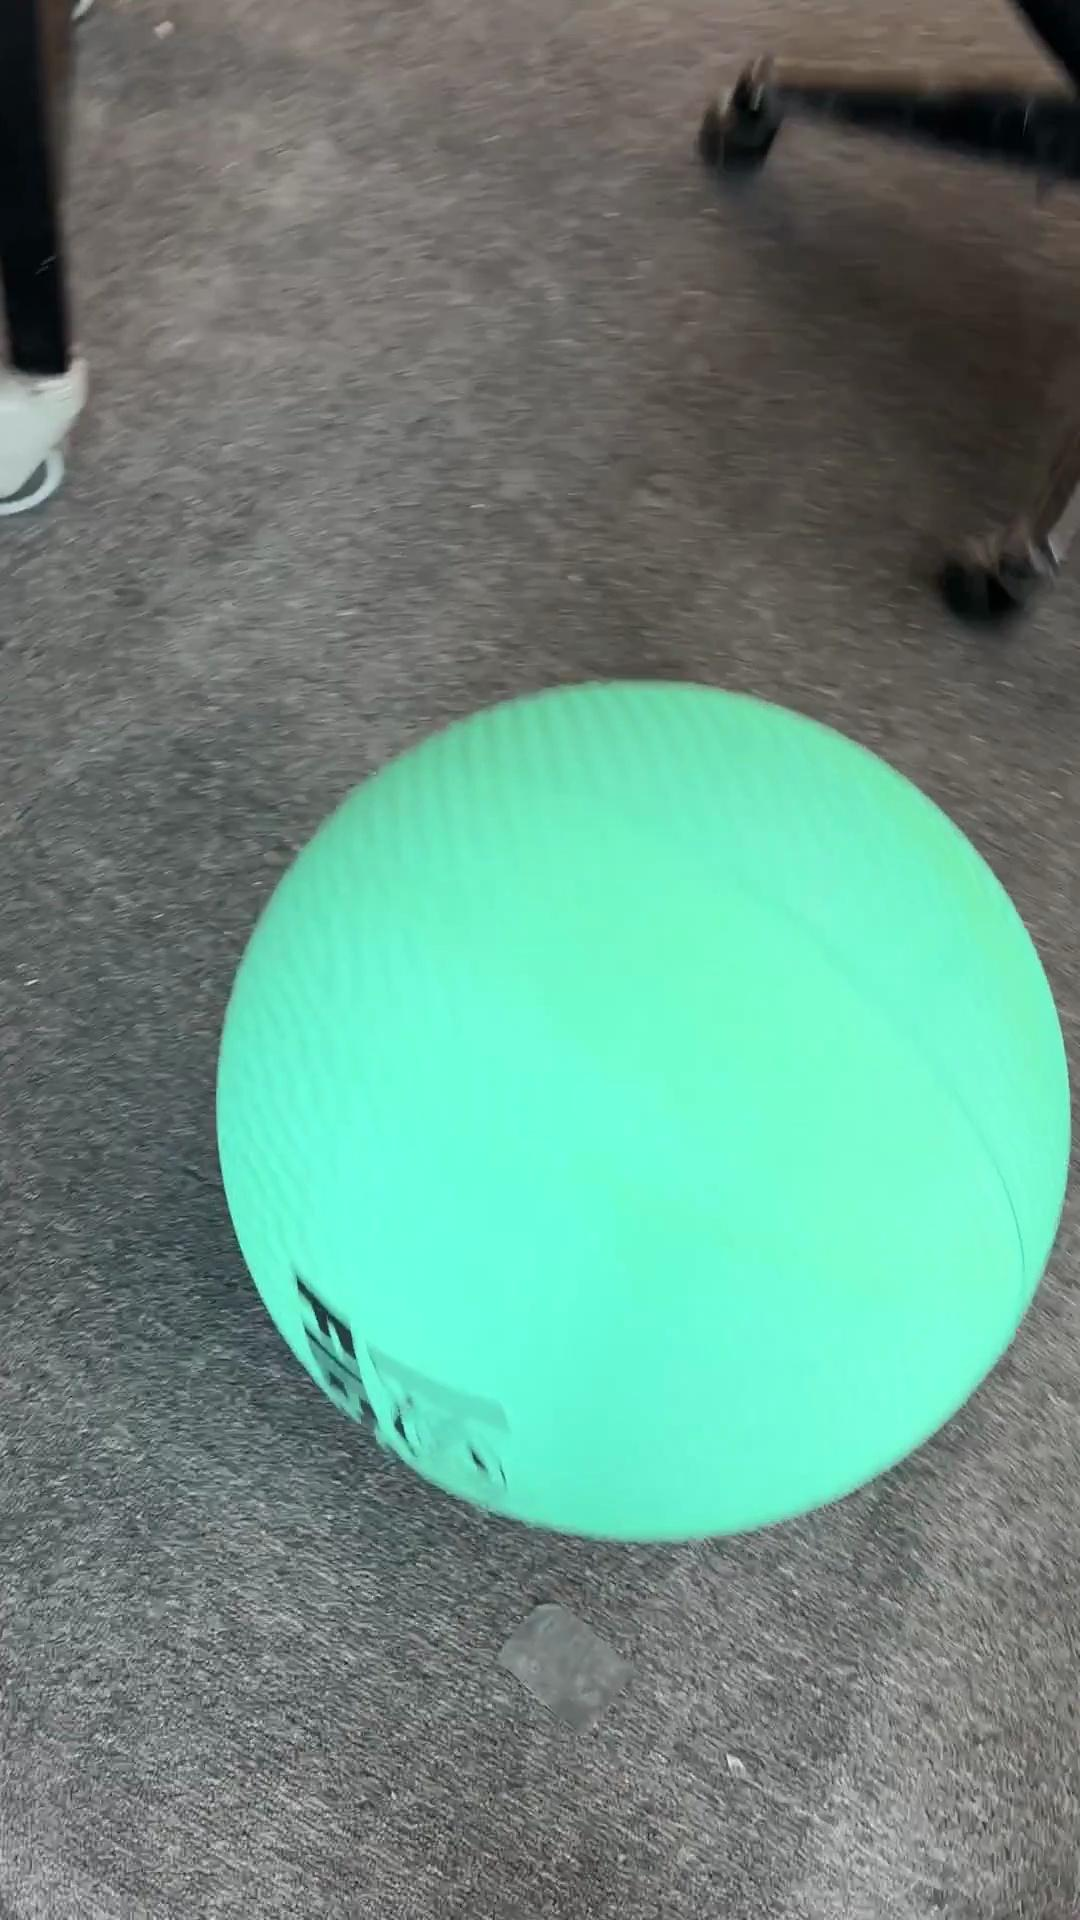ALGAE: (212, 674, 1072, 1545)
